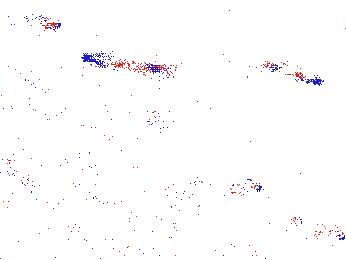red belly glassfish: (194, 175, 263, 197), (23, 15, 64, 33), (321, 17, 346, 33)
redtail glassfish: (78, 50, 164, 75), (286, 211, 346, 241), (266, 60, 324, 85)
